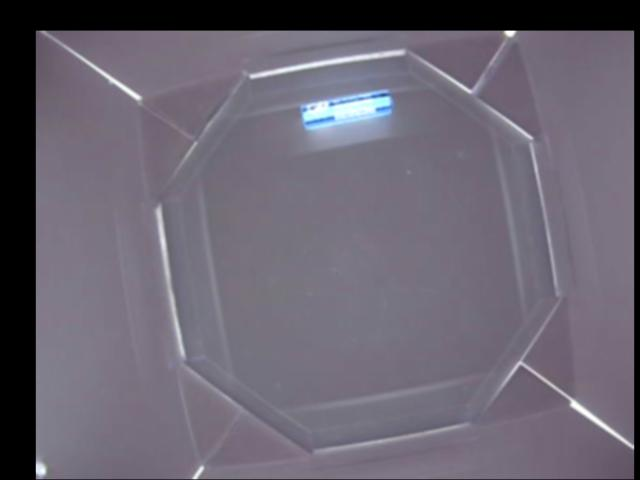Battery: (301, 87, 391, 131)
